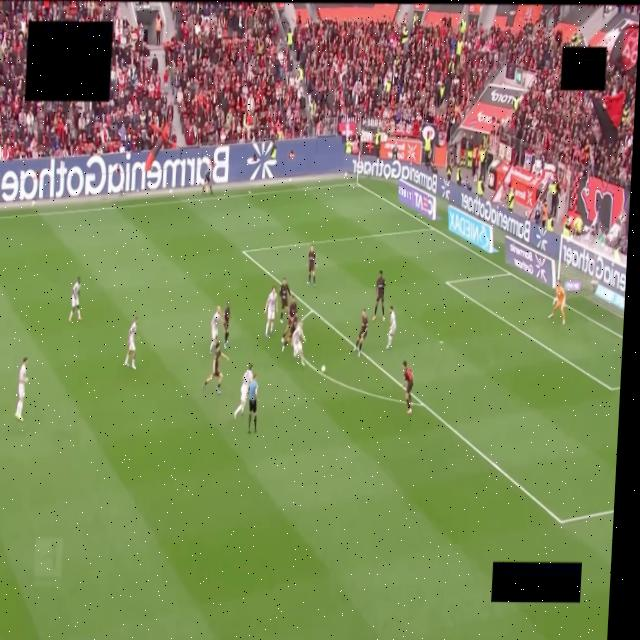ball: (321, 366, 325, 372)
player: (202, 343, 228, 393), (234, 363, 253, 418), (281, 296, 297, 350), (14, 358, 27, 421), (548, 281, 565, 324), (353, 309, 368, 356), (124, 317, 137, 369), (264, 286, 277, 337), (291, 322, 305, 365), (373, 271, 385, 321), (402, 361, 413, 414), (68, 278, 81, 322), (209, 306, 220, 353), (221, 300, 231, 350), (279, 278, 290, 323), (386, 306, 395, 349), (307, 245, 316, 286)
referee: (248, 374, 257, 433)
